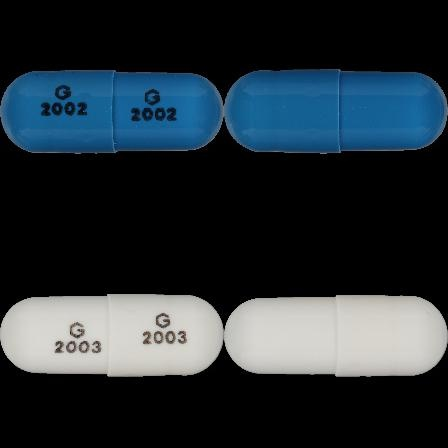59762-2002: (0, 0, 224, 224)
